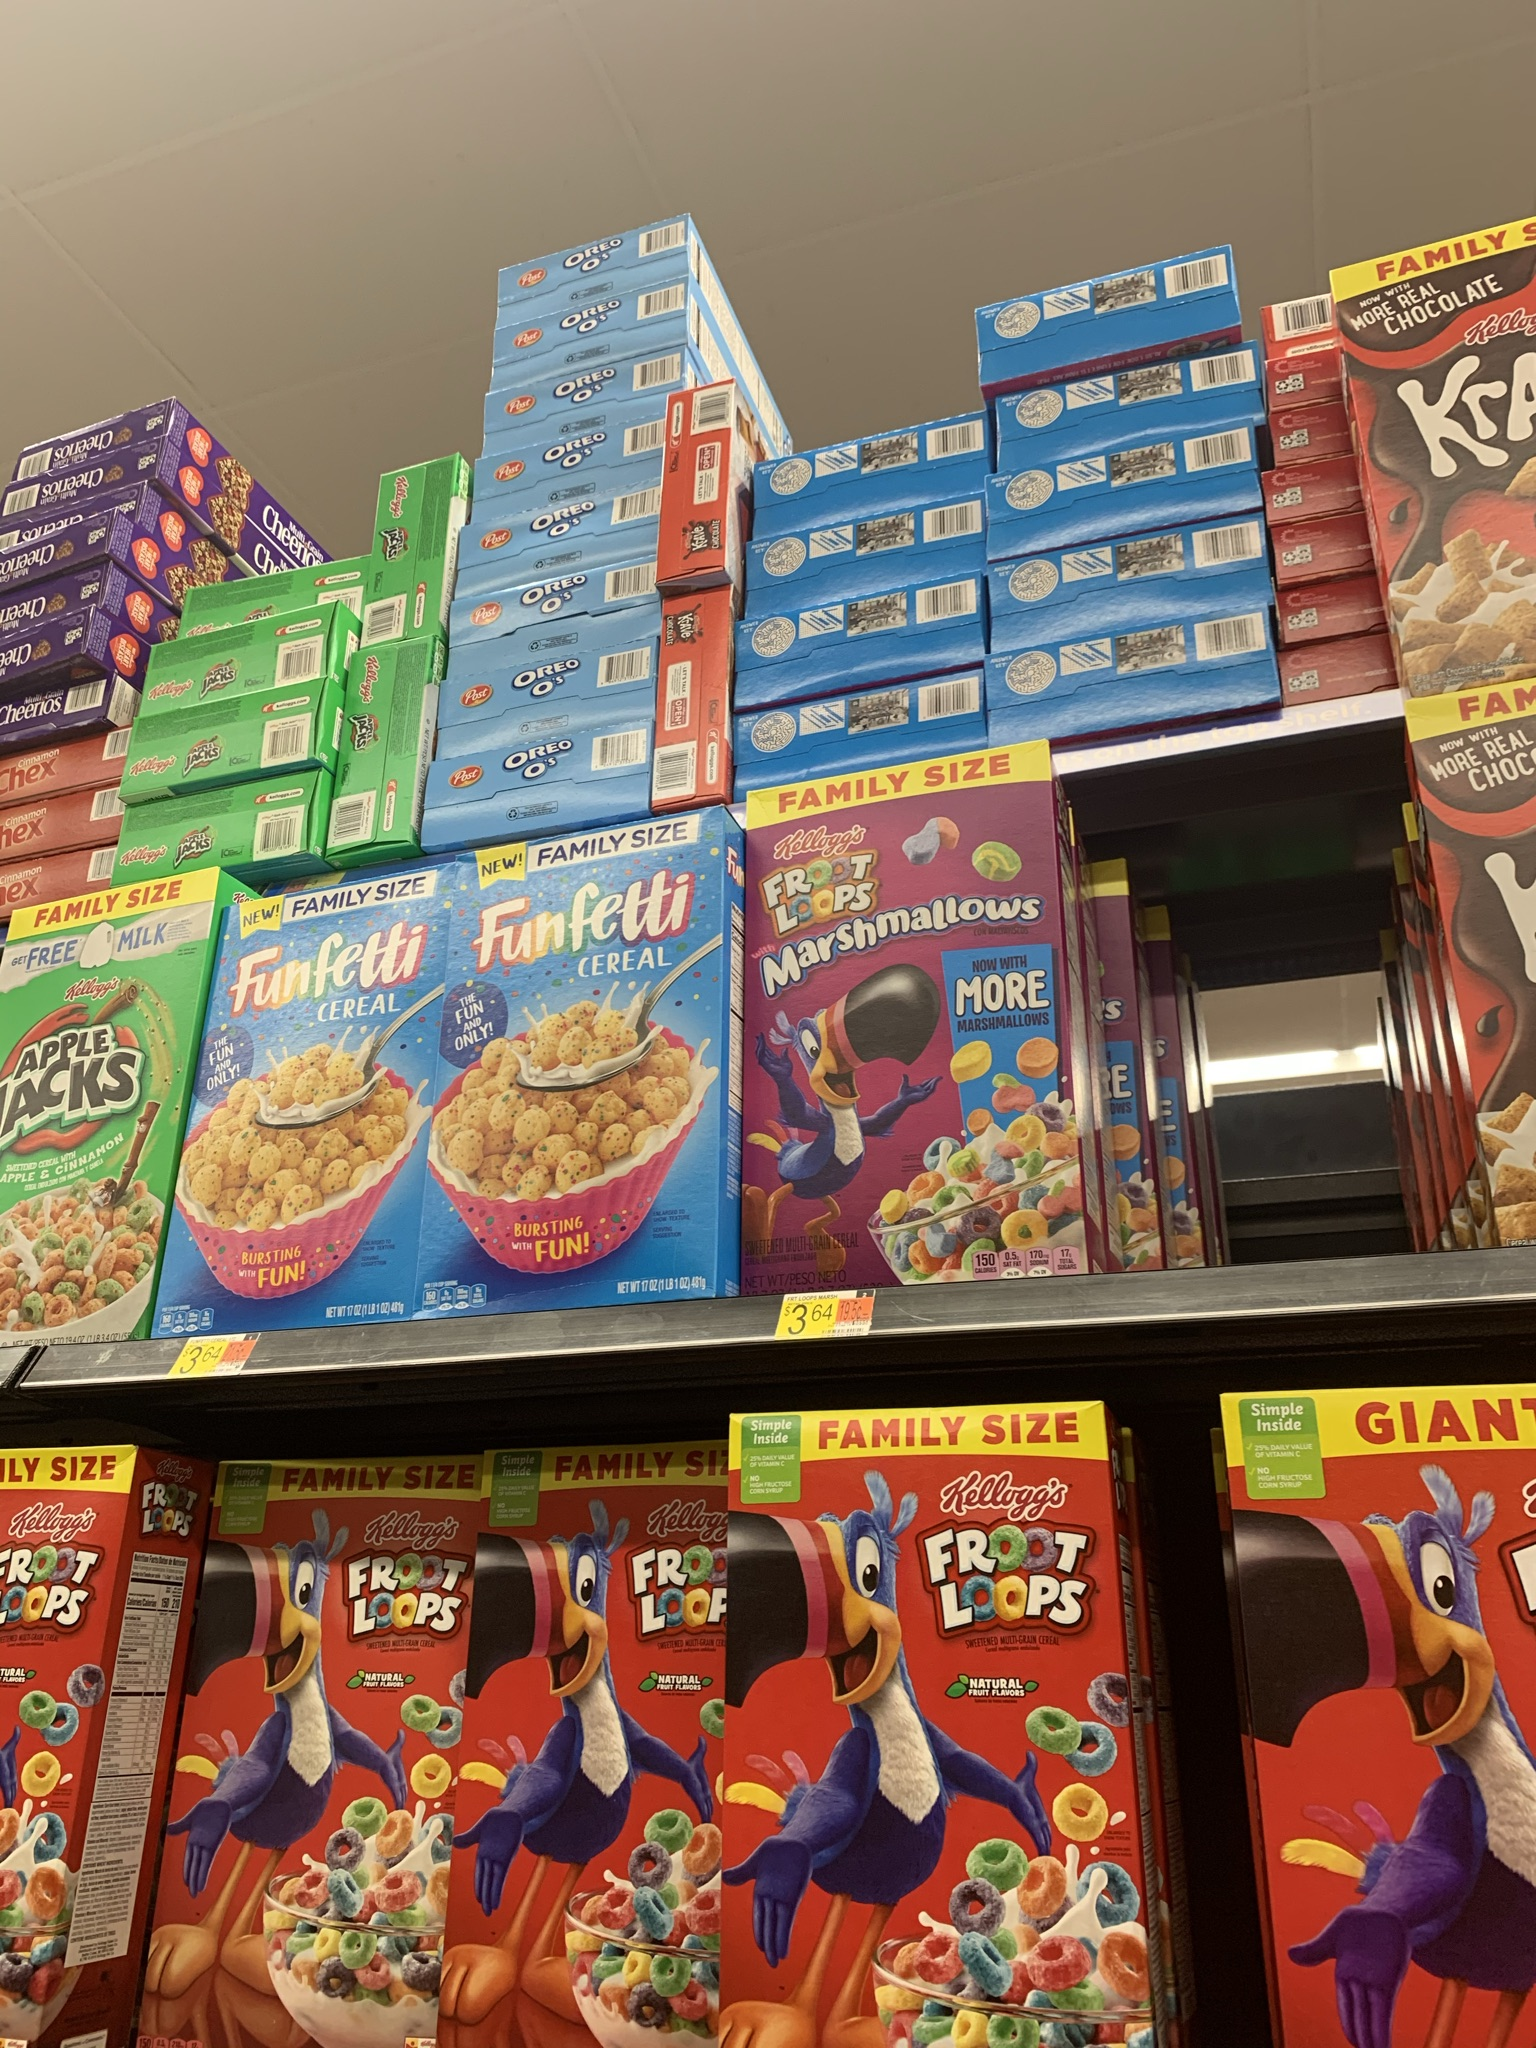Cereal: (724, 1411, 1108, 2048)
